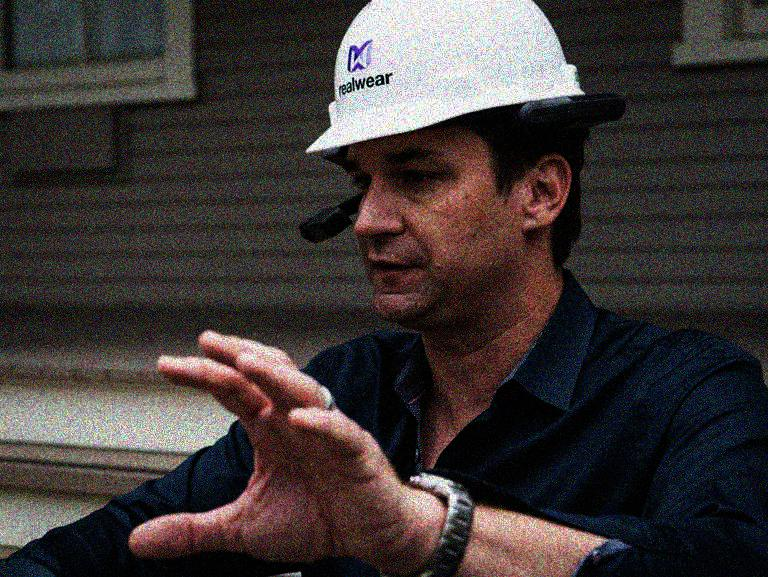helmet: (304, 1, 622, 321)
